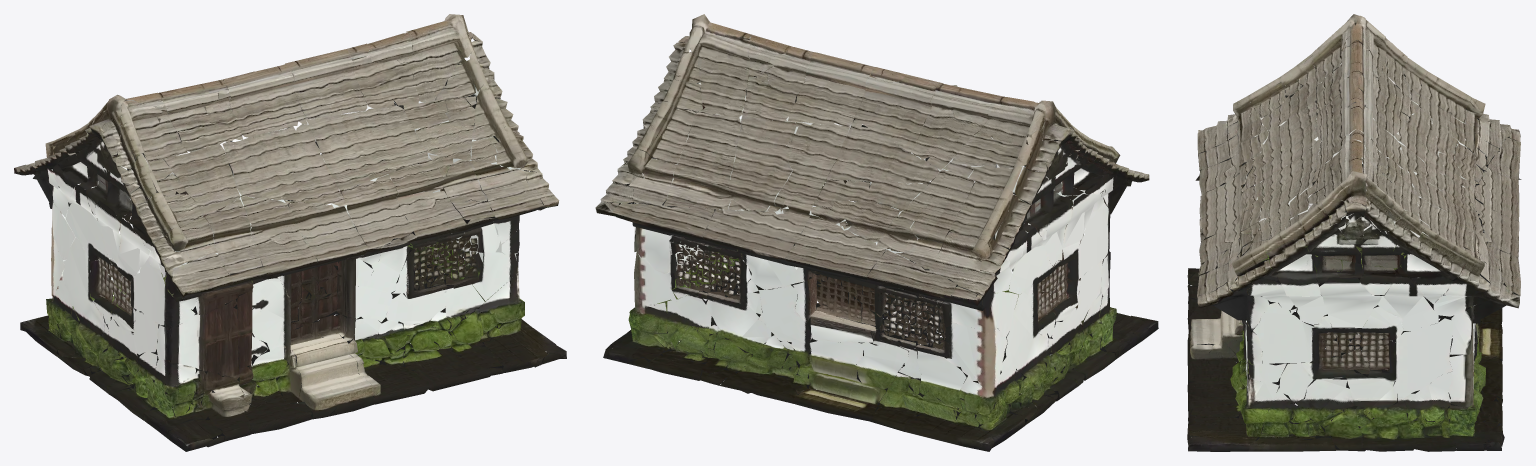
The model's file is dozo.glb.
The picture shows the model from 3 angles, left to right: view 1: azimuth 30°, elevation 25°; view 2: azimuth 150°, elevation 25°; view 3: azimuth 270°, elevation 25°; orthographic projection. The views are drawn at different scales.
Parts seen in each view (by area): view 1: Mesh_0; view 2: Mesh_0; view 3: Mesh_0.
Part boxes in pixels (x1,y1,x2,y2): Mesh_0: [14, 14, 566, 451]; Mesh_0: [595, 14, 1158, 451]; Mesh_0: [1187, 14, 1521, 451].
Size of the model in its own units: 1.9 by 1.37 by 1.52.
1 material, 1 textured.
